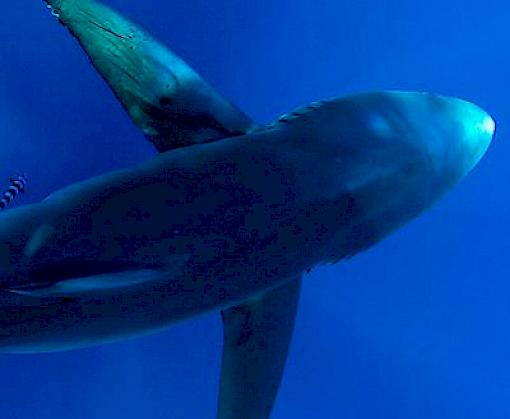shark: (1, 8, 504, 419)
